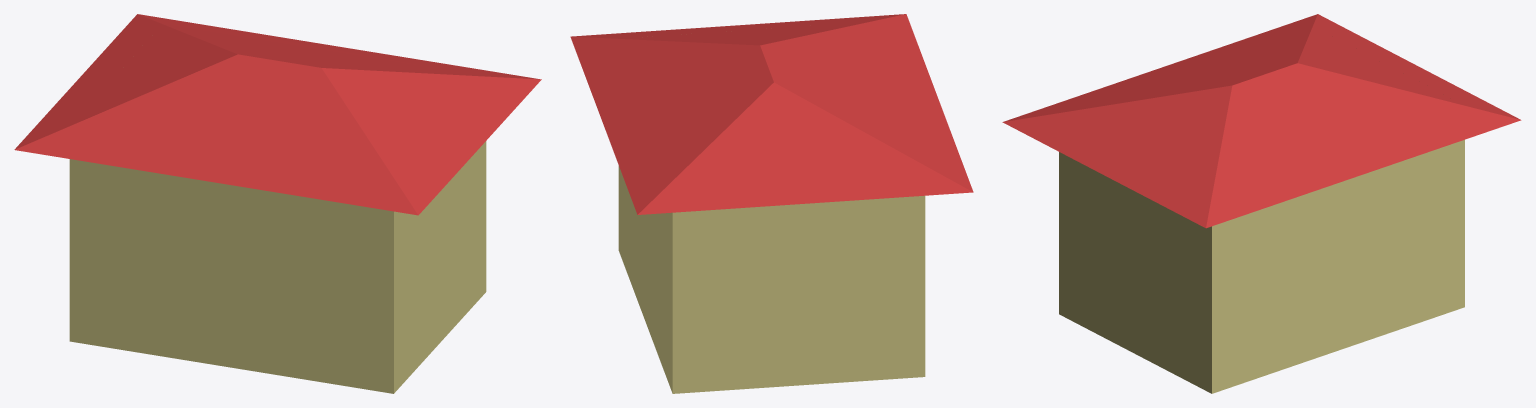
3 renders of one model, left to right at view 1: azimuth 30°, elevation 25°; view 2: azimuth 150°, elevation 25°; view 3: azimuth 270°, elevation 25°, orthographic. The views are drawn at different scales.
Size of the model in its own units: 18.9 by 19.36 by 9.78.
